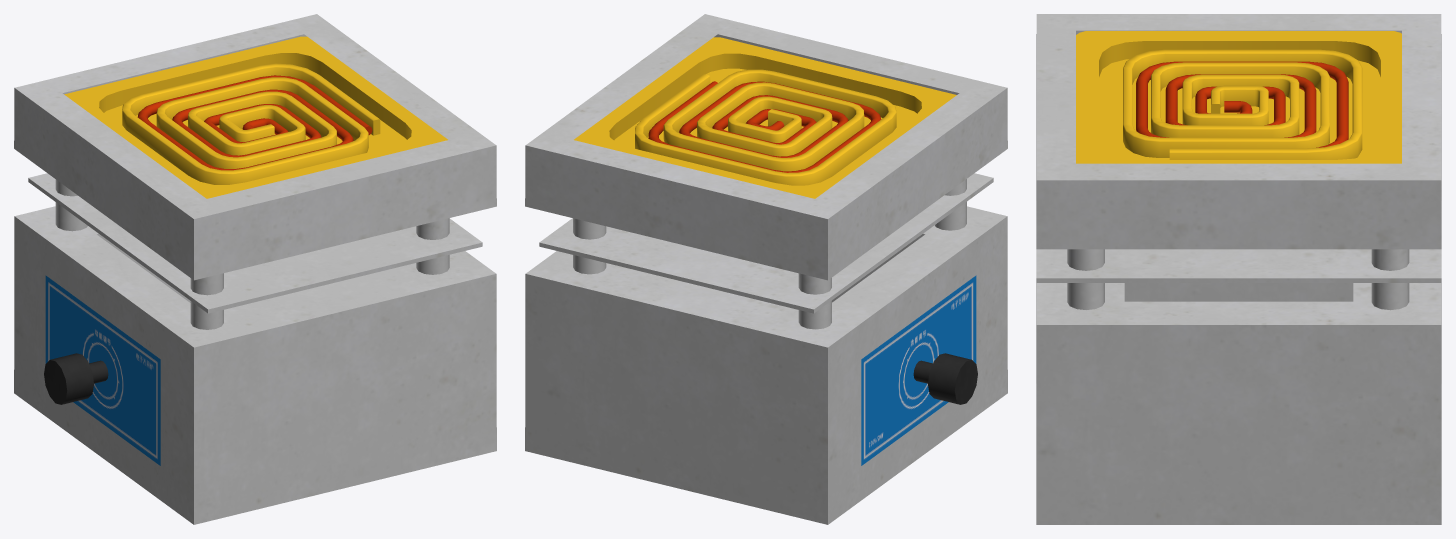
3 renders of one model, left to right at view 1: azimuth 30°, elevation 25°; view 2: azimuth 150°, elevation 25°; view 3: azimuth 270°, elevation 25°, orthographic. The views are drawn at different scales.
Visible parts, largest first — view 1: SM_电炉; view 2: SM_电炉; view 3: SM_电炉.
Boxes of the visible parts, x1,y1,x2,y2 form: SM_电炉: [14, 14, 496, 524]; SM_电炉: [525, 14, 1007, 524]; SM_电炉: [1036, 14, 1441, 524].
Size of the model in its own units: 0.1945 by 0.1617 by 0.1725.
